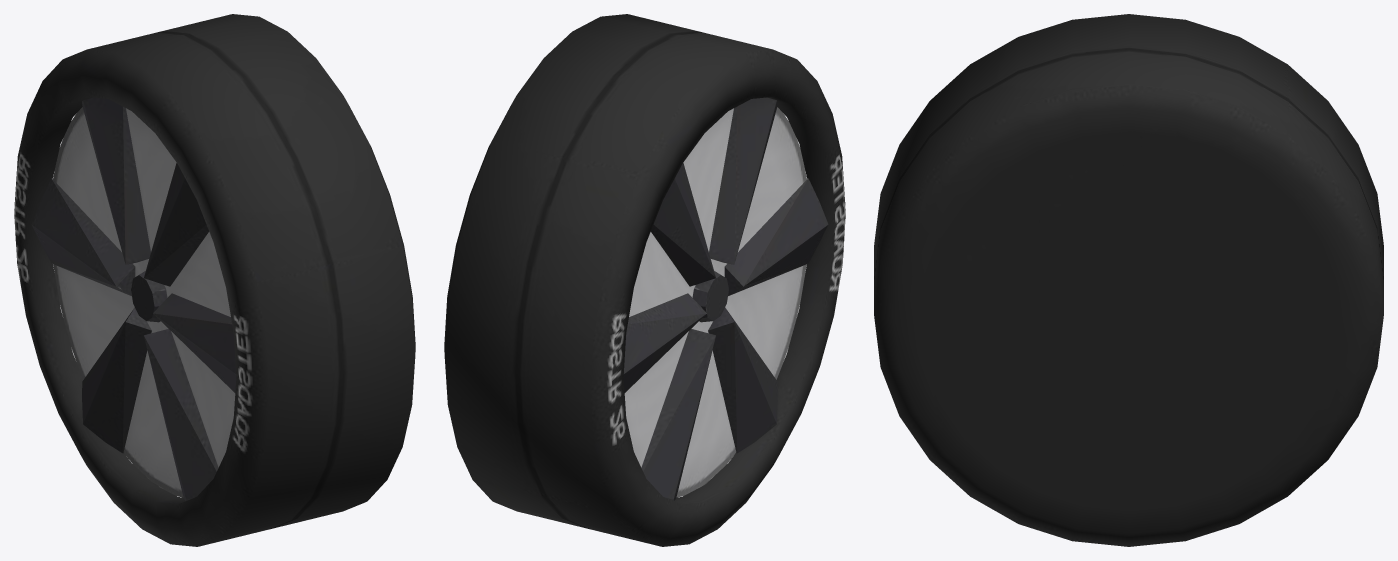
Rendered from rdstr-wheel-r.glb.
The picture shows the model from 3 angles, left to right: view 1: azimuth 30°, elevation 25°; view 2: azimuth 150°, elevation 25°; view 3: azimuth 270°, elevation 25°; orthographic projection.
Parts seen in each view (by area): view 1: rdstr_tmp; view 2: rdstr_tmp; view 3: rdstr_tmp.
Part boxes in pixels (x1=…): rdstr_tmp: x1=14, y1=14, x2=415, y2=546; rdstr_tmp: x1=444, y1=14, x2=845, y2=546; rdstr_tmp: x1=874, y1=14, x2=1383, y2=546.
Size of the model in its own units: 0.29 by 0.77 by 0.77.
1 material, 1 textured.
